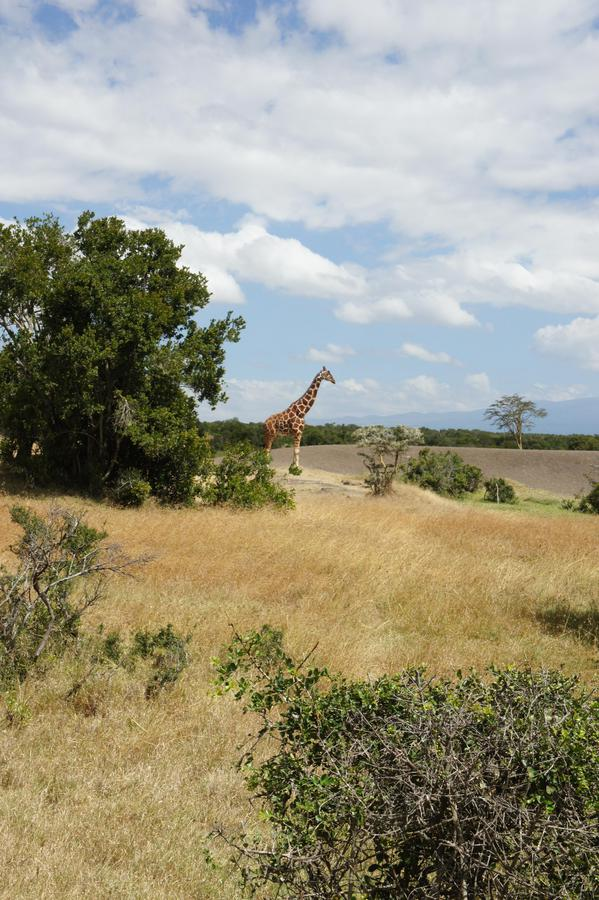giraffe: (252, 360, 343, 472)
